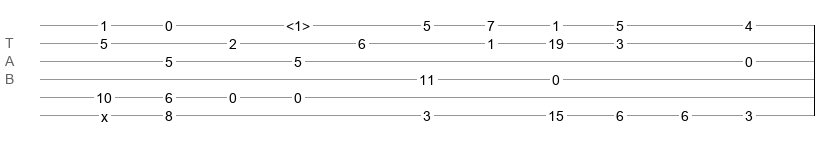0: (165, 18, 173, 28), (229, 90, 237, 100), (294, 90, 302, 100), (552, 72, 560, 82), (745, 54, 753, 64)
1: (100, 18, 108, 28), (487, 36, 495, 46), (552, 18, 560, 28)
10: (96, 90, 112, 100)
11: (419, 72, 435, 82)
15: (548, 108, 564, 118)
19: (548, 36, 564, 46)
2: (229, 36, 237, 46)
3: (423, 108, 431, 118), (616, 36, 624, 46), (745, 108, 753, 118)
4: (745, 18, 753, 28)
5: (100, 36, 108, 46), (165, 54, 173, 64), (294, 54, 302, 64), (423, 18, 431, 28), (616, 18, 624, 28)
6: (165, 90, 173, 100), (358, 36, 366, 46), (616, 108, 624, 118), (681, 108, 689, 118)
7: (487, 18, 495, 28)
8: (165, 108, 173, 118)
harmonic: (286, 18, 310, 28)
x: (101, 109, 108, 117)
